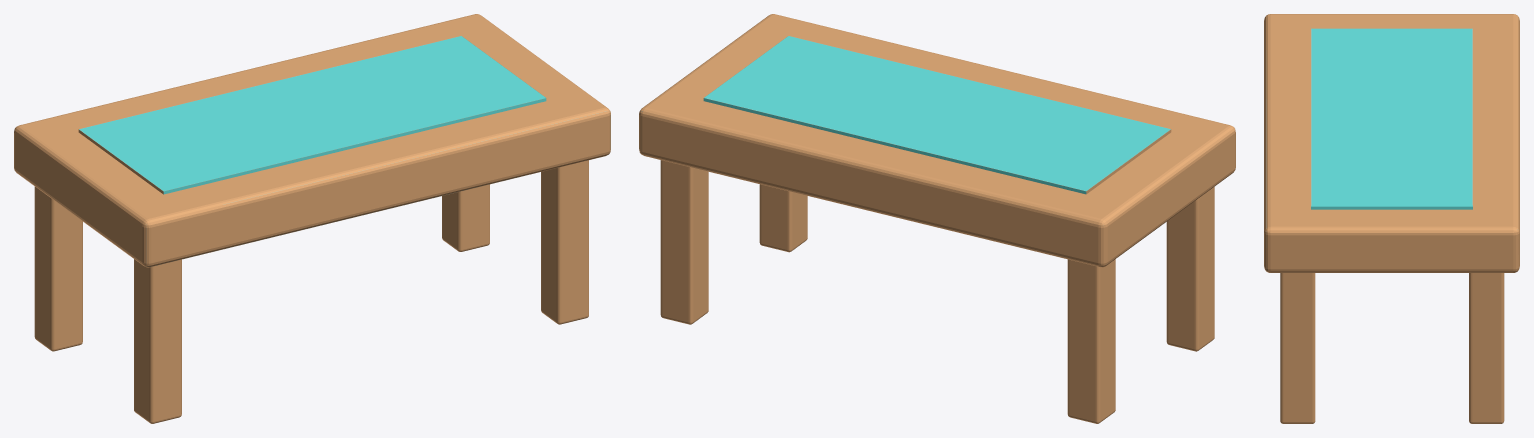
Rendered from Table.fbx.
3 views of the same model, side by side, from view 1: azimuth 30°, elevation 25°; view 2: azimuth 150°, elevation 25°; view 3: azimuth 270°, elevation 25° (orthographic). The views are drawn at different scales.
Visible parts, largest first — view 1: Cube; view 2: Cube; view 3: Cube.
Boxes of the visible parts, x1,y1,x2,y2 form: Cube: (14, 14, 610, 423); Cube: (639, 14, 1235, 423); Cube: (1264, 14, 1519, 423).
Bounding box in the file's own units: 4.03 × 1.77 × 2.
Materials: 1 (1 with a texture image).
